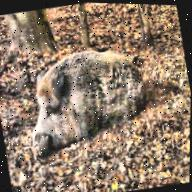boar: (14, 28, 173, 159)
